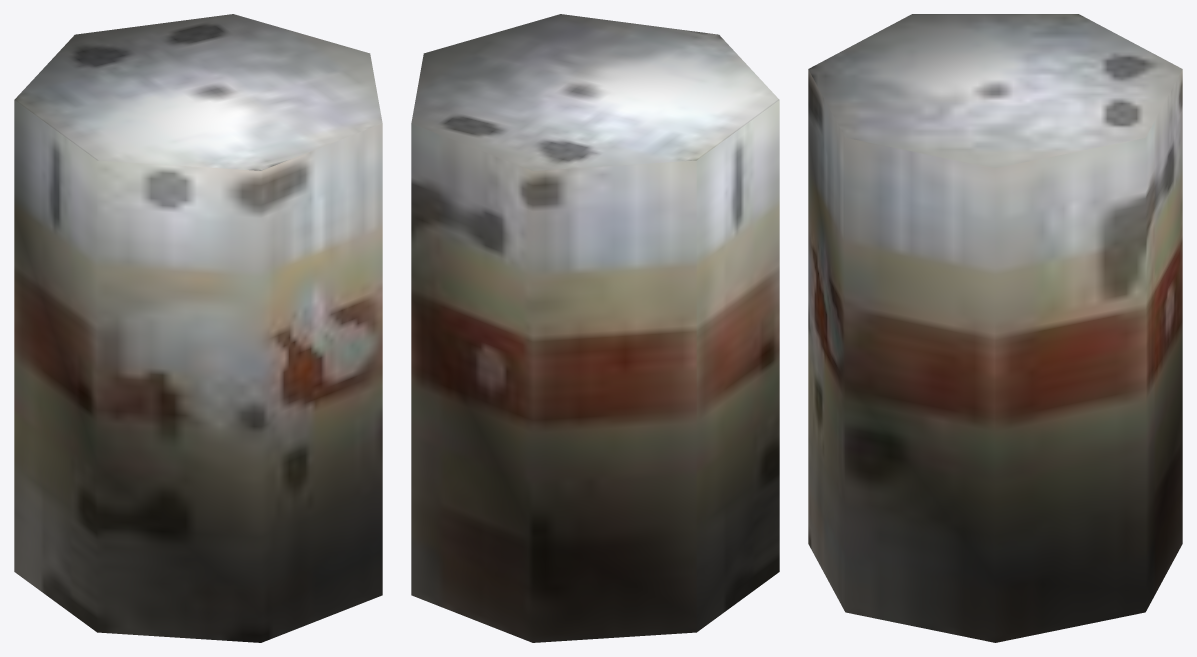
The model's file is lata.glb.
The picture shows the model from 3 angles, left to right: view 1: azimuth 30°, elevation 25°; view 2: azimuth 150°, elevation 25°; view 3: azimuth 270°, elevation 25°; orthographic projection.
Visible parts, largest first — view 1: lata; view 2: lata; view 3: lata.
Boxes of the visible parts, <box> form: lata: <box>14,14,382,642</box>; lata: <box>411,14,779,642</box>; lata: <box>808,14,1182,642</box>.
Size of the model in its own units: 0.0836 by 0.12 by 0.0858.
Materials: 1 (1 with a texture image).
